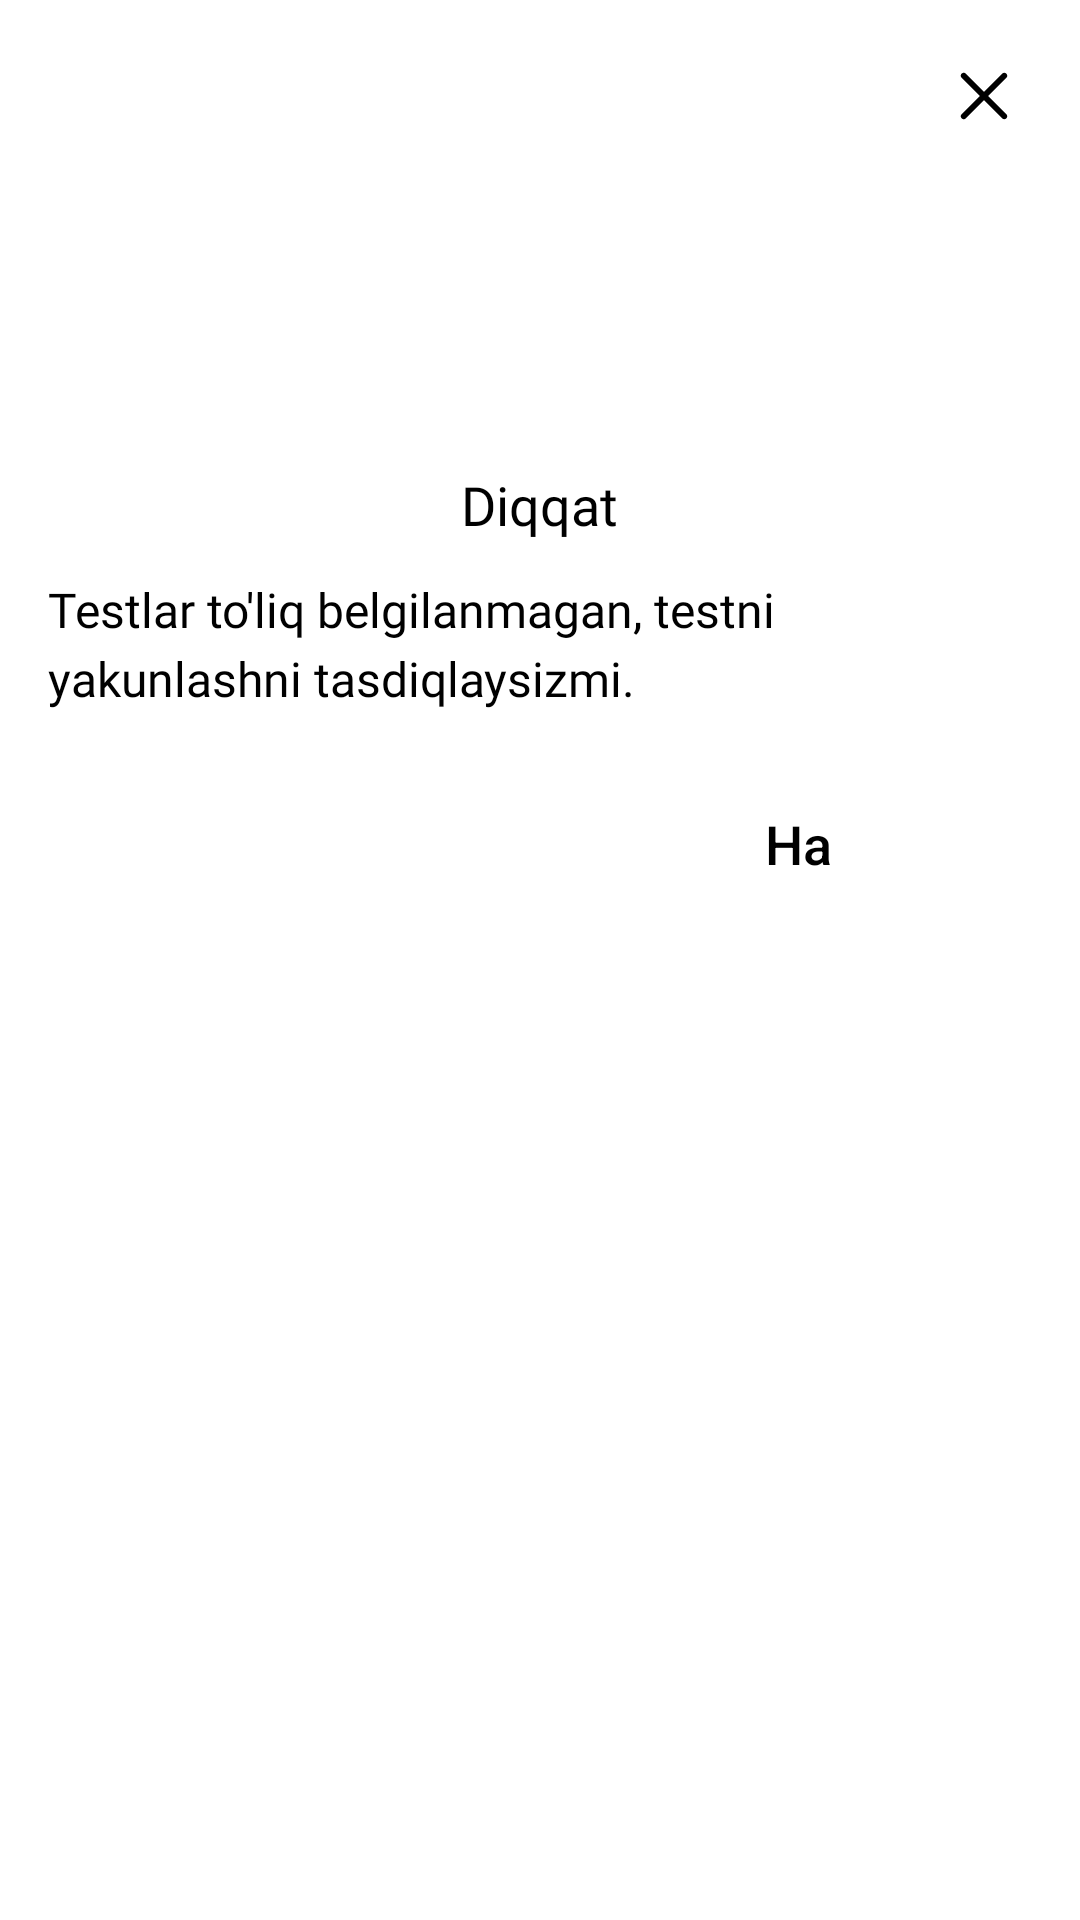

Icon click points for this 1080×1920 phone screenshot, format (x,y):
ix shape: (984,96)
